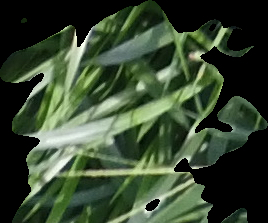grass: (1, 1, 266, 221)
